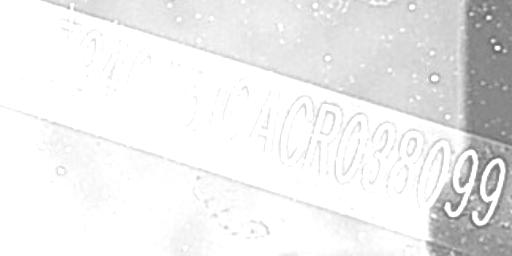letter: (302, 100, 344, 180), (40, 18, 80, 94), (386, 128, 424, 202), (176, 62, 214, 136), (442, 146, 480, 218), (470, 156, 508, 228), (360, 120, 398, 192), (123, 44, 159, 118), (244, 84, 280, 158), (68, 27, 104, 99), (152, 54, 188, 126), (221, 77, 257, 149), (278, 95, 314, 167), (333, 110, 369, 182), (416, 136, 450, 212), (98, 36, 128, 110), (206, 69, 230, 141)
